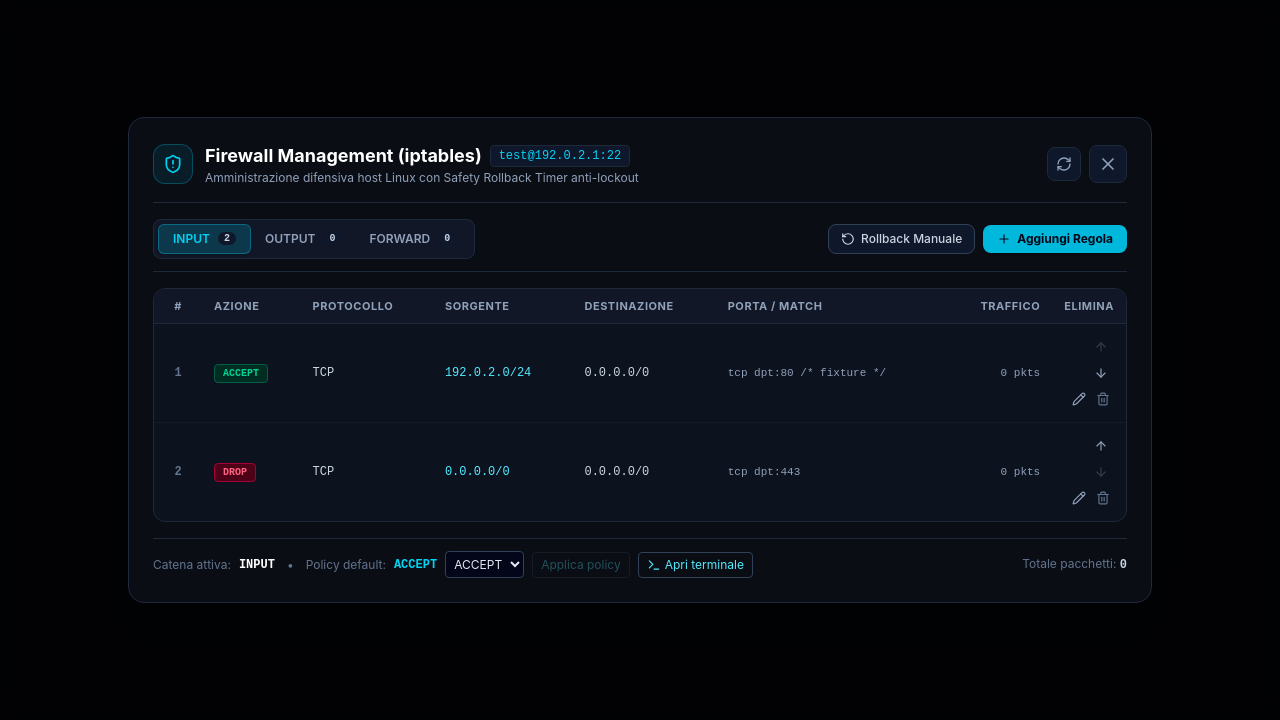
sends revision-checked reordering and disables mutations while confirmation is pending
Step 1. Click the button named "Sposta regola 1 giù" → (1101, 373), box [1088,360,1114,386]
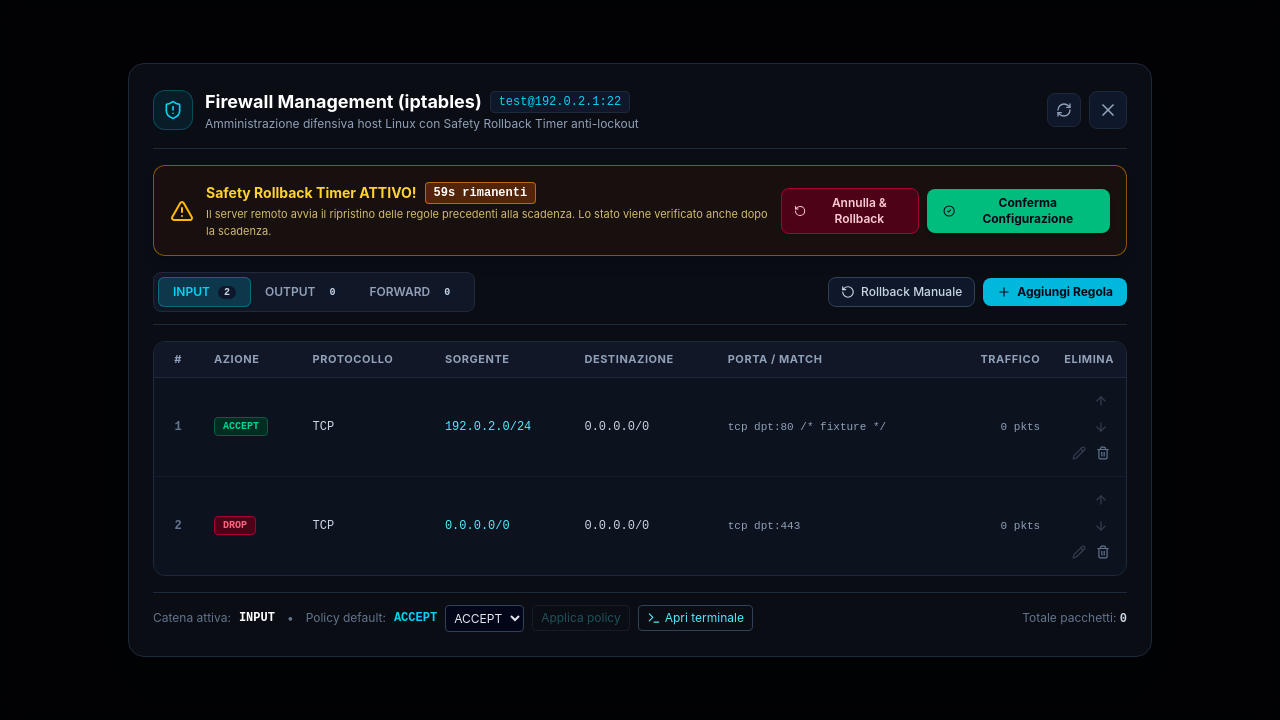
Check: the button "Aggiungi Regola" is disabled, box [983,278,1127,306]
